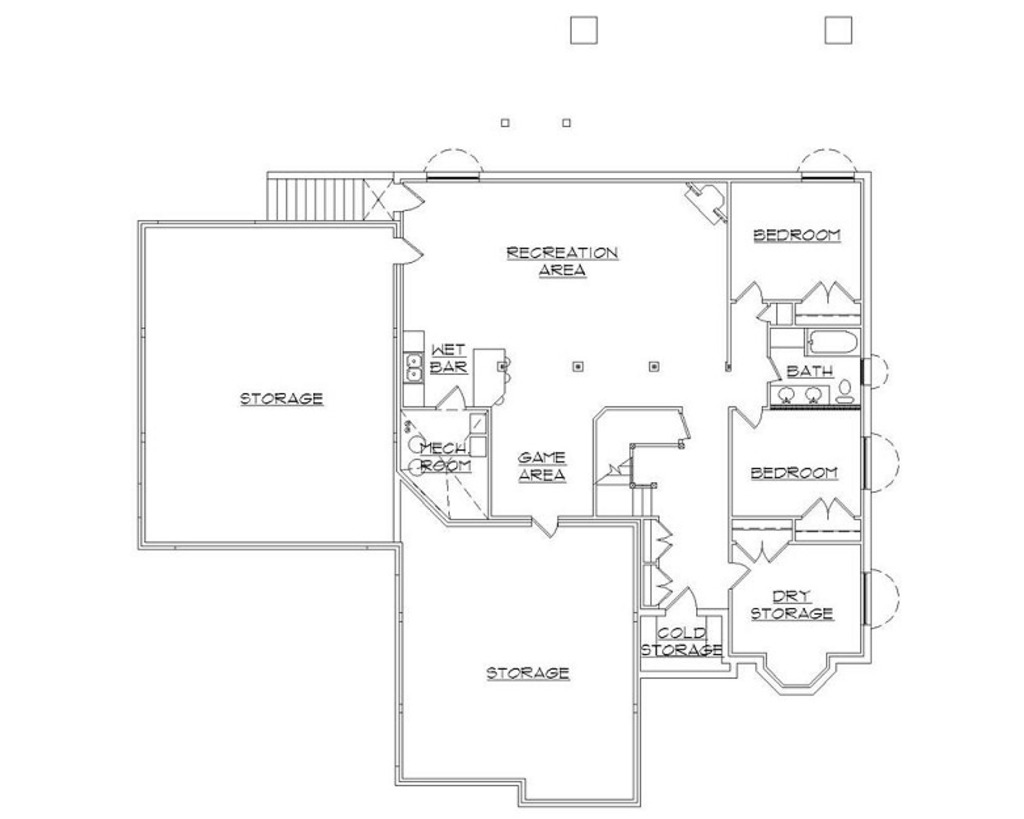door: (789, 267, 861, 310), (790, 491, 855, 525), (635, 562, 677, 612), (640, 515, 678, 565), (732, 534, 793, 565), (527, 500, 565, 548), (658, 577, 703, 617), (388, 232, 428, 263), (730, 406, 770, 436), (731, 274, 766, 307), (393, 182, 427, 215), (723, 555, 754, 591), (766, 358, 784, 384)
kitchen_bar: (465, 341, 520, 412)
stairs: (592, 392, 693, 511), (256, 167, 397, 226)
twin_sink: (397, 348, 439, 393)
